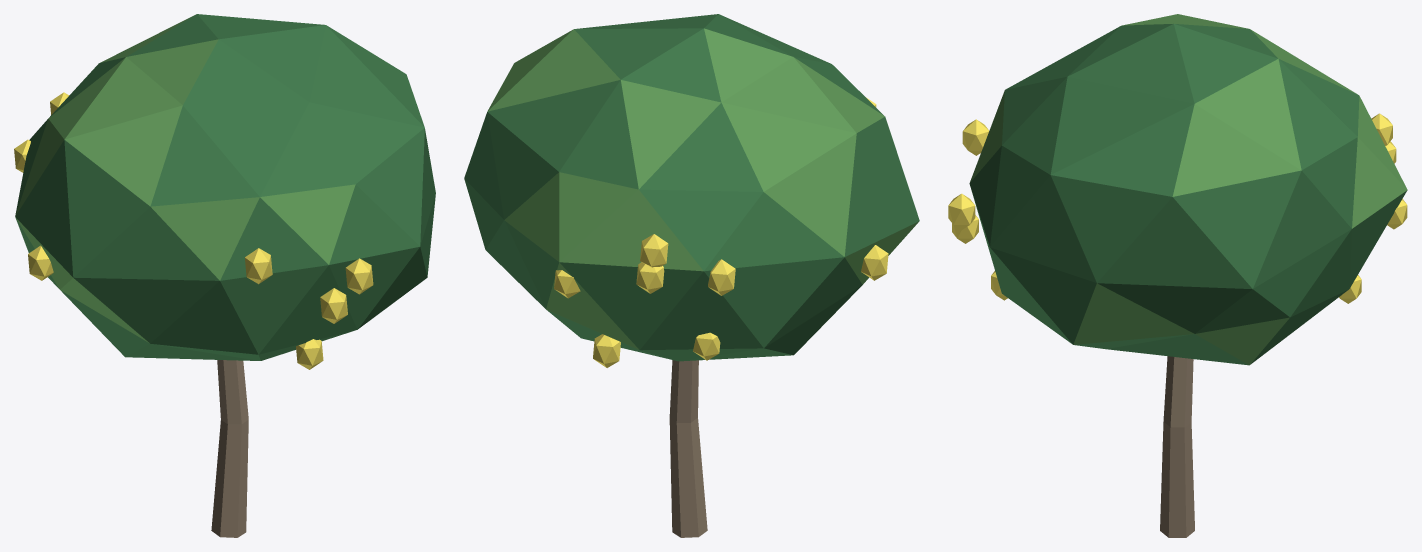
The model's file is citrus.glb.
The picture shows the model from 3 angles, left to right: view 1: azimuth 30°, elevation 25°; view 2: azimuth 150°, elevation 25°; view 3: azimuth 270°, elevation 25°; orthographic projection.
Parts seen in each view (by area): view 1: SG_Citrus; view 2: SG_Citrus; view 3: SG_Citrus.
Boxes of the visible parts, <box> form: SG_Citrus: <box>14,14,435,537</box>; SG_Citrus: <box>464,14,919,537</box>; SG_Citrus: <box>948,14,1407,537</box>.
Size of the model in its own units: 2.52 by 3.15 by 2.61.
